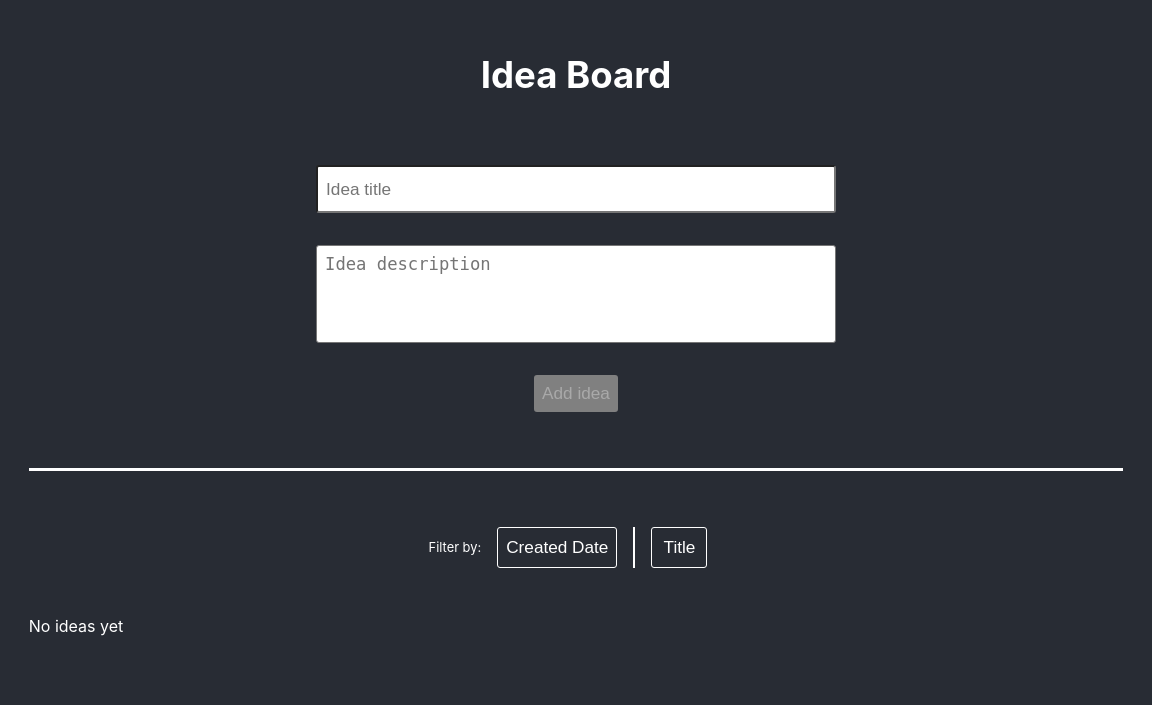
Test case: App › inputs and submit btn behave correctly and submit creates an idea box with correct content
Type "test-123" into the field with test id "main-input" at (576, 189), box x1=316 y1=165 x2=836 y2=213
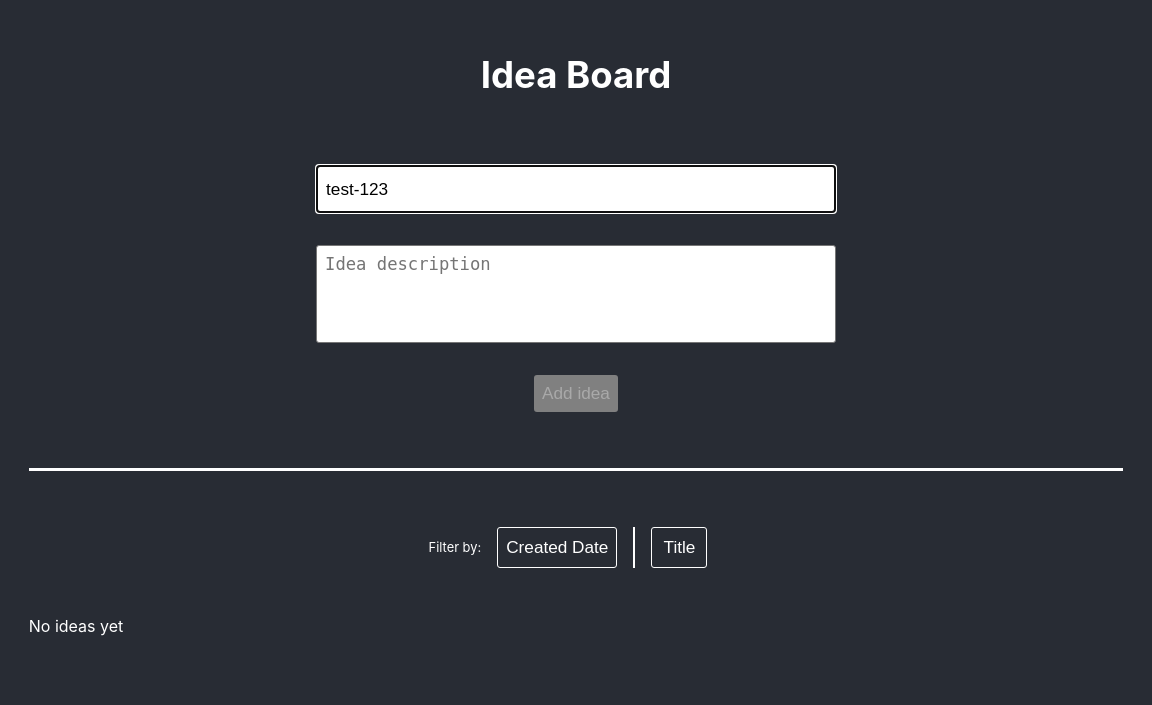
Expected: the button "Add idea" is disabled, x1=534 y1=375 x2=618 y2=412
Type "test 1323412, hello neigbour" into the text box with test id "main-textArea" at (576, 294), box x1=316 y1=245 x2=836 y2=343
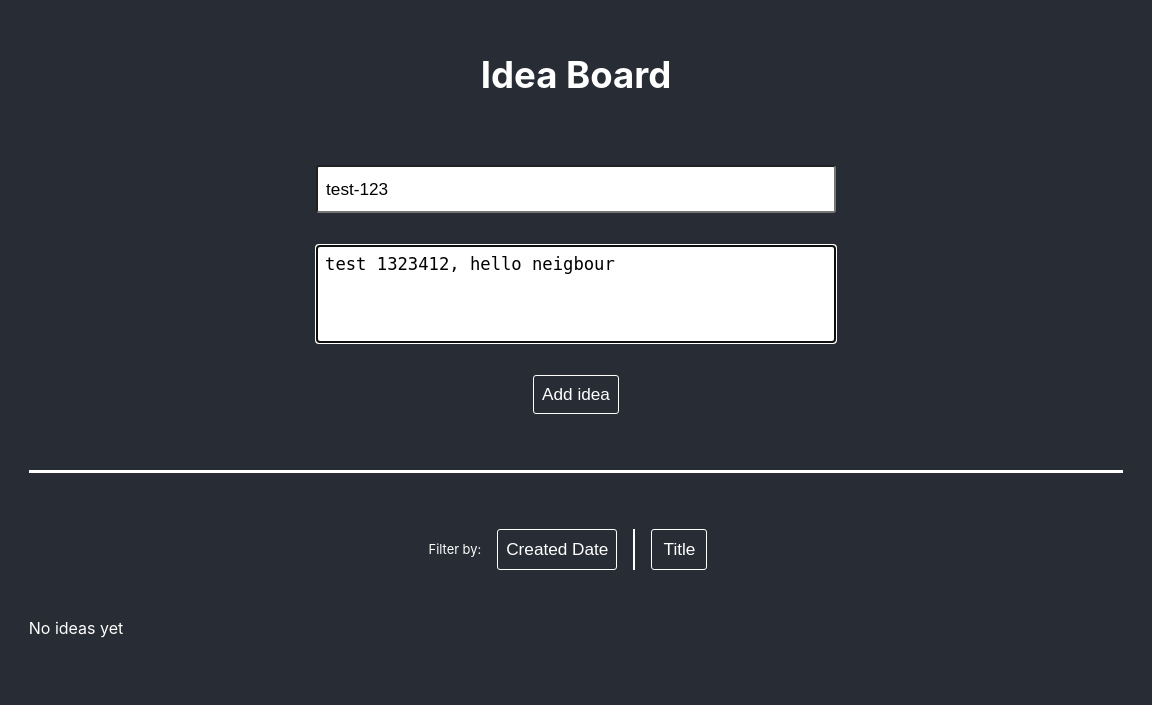
Result: the button "Add idea" is enabled
Click the button "Add idea" at (576, 394), box x1=533 y1=375 x2=619 y2=414
(page scrolled)
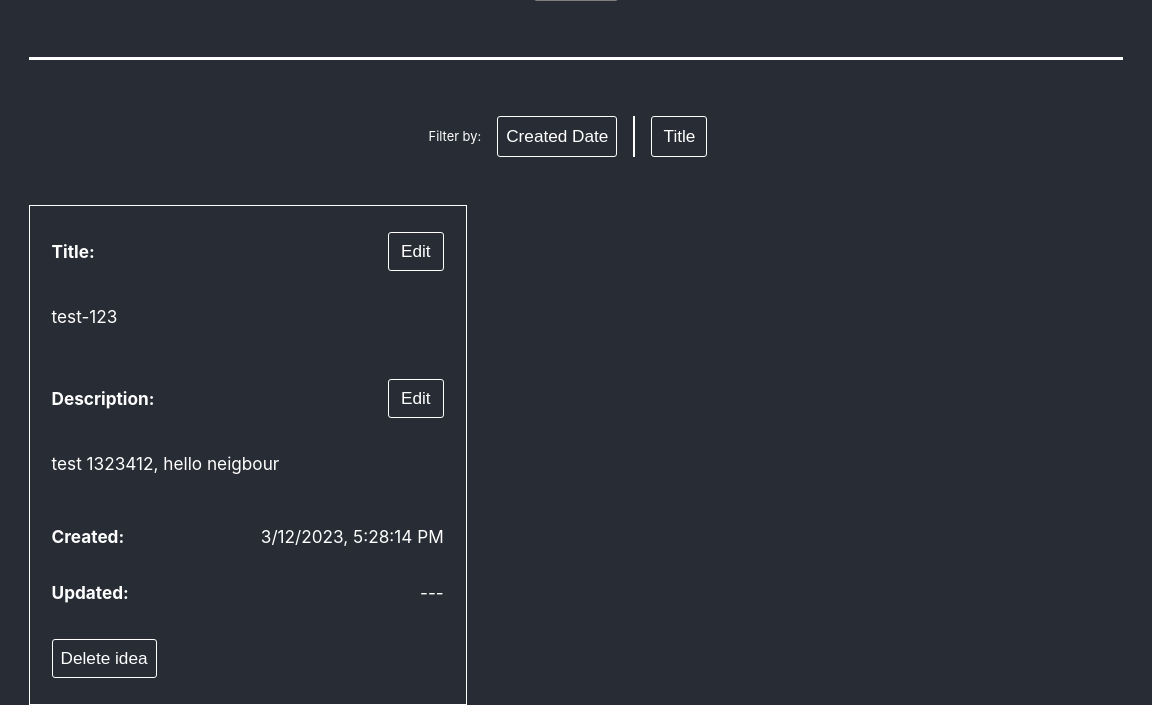
Result: the element with test id "card_wrapper" shows "test-123" at x1=52 y1=306 x2=117 y2=327
Result: the element with test id "card_wrapper" shows "test 1323412, hello neigbour" at x1=52 y1=453 x2=279 y2=474
